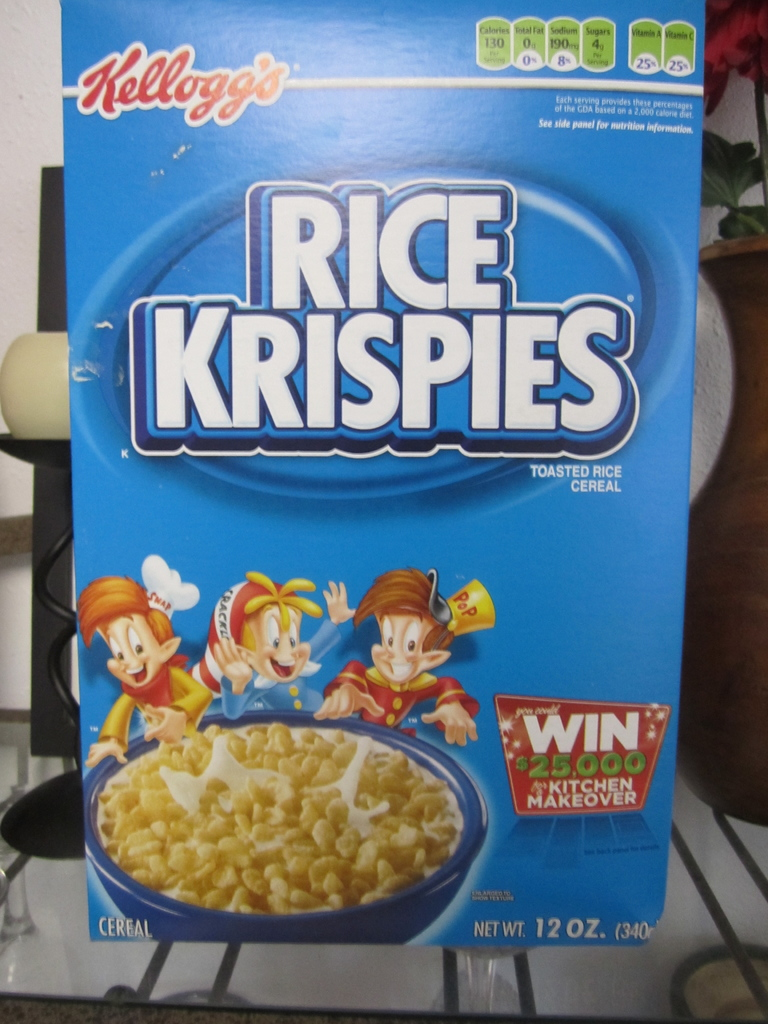pasta: (93, 715, 459, 916)
